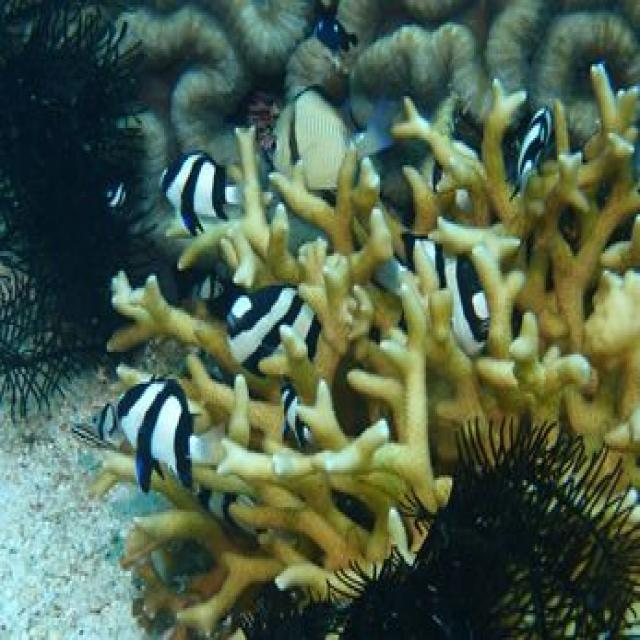Three_striped DasmselFish: (406, 230, 500, 366), (106, 380, 201, 489), (229, 286, 320, 367), (156, 153, 244, 234), (507, 102, 557, 205), (276, 378, 316, 448), (190, 272, 226, 304), (103, 174, 130, 213)
